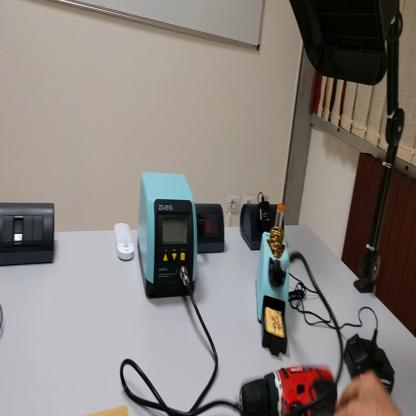electric screwdriver: (235, 367, 337, 416)
electric screwdriver battery: (346, 329, 395, 395)
hand: (336, 371, 402, 415)
socket: (241, 199, 286, 251), (197, 202, 228, 257)
welder base: (256, 208, 294, 350)
welder probe tip: (273, 240, 300, 283)
welder station: (133, 172, 199, 299)
working area: (88, 403, 131, 413)
